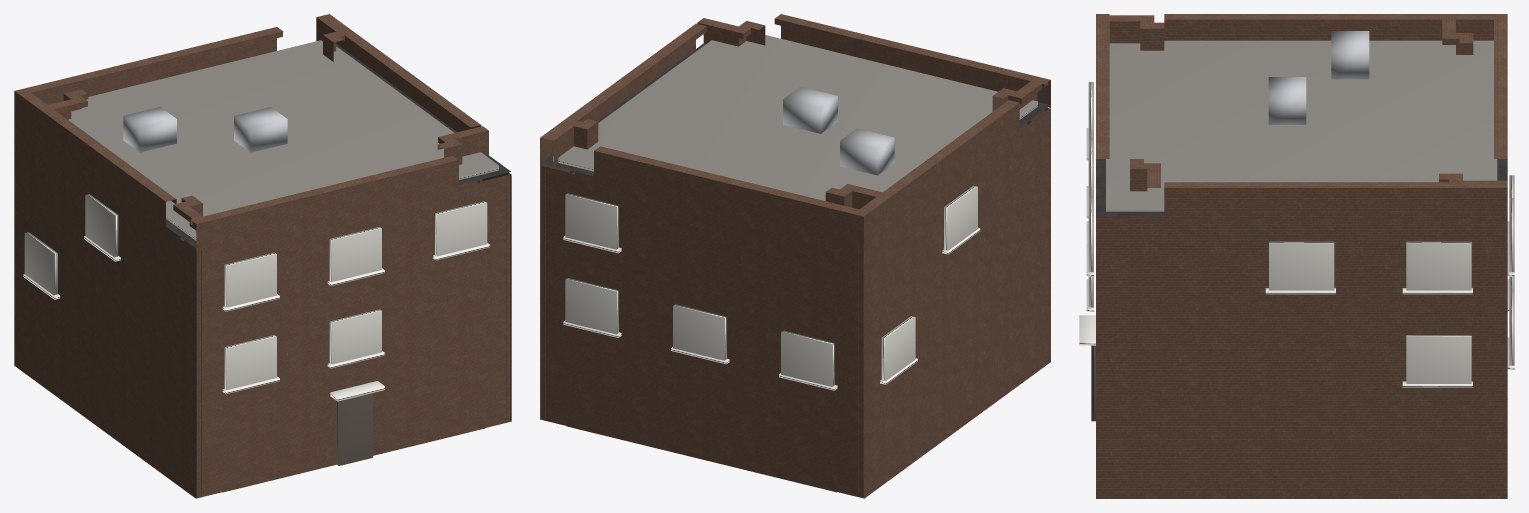
Rendered from b_brick2.gltf.
The picture shows the model from 3 angles, left to right: view 1: azimuth 30°, elevation 25°; view 2: azimuth 150°, elevation 25°; view 3: azimuth 270°, elevation 25°; orthographic projection. The views are drawn at different scales.
Visible parts, largest first — view 1: b_brick2; view 2: b_brick2; view 3: b_brick2.
Boxes of the visible parts, <box> form: b_brick2: <box>14,14,511,498</box>; b_brick2: <box>540,14,1050,498</box>; b_brick2: <box>1079,14,1514,498</box>.
Bounding box in the file's own units: 12.48 × 10.3 × 12.7.
10 materials, 4 textured.
